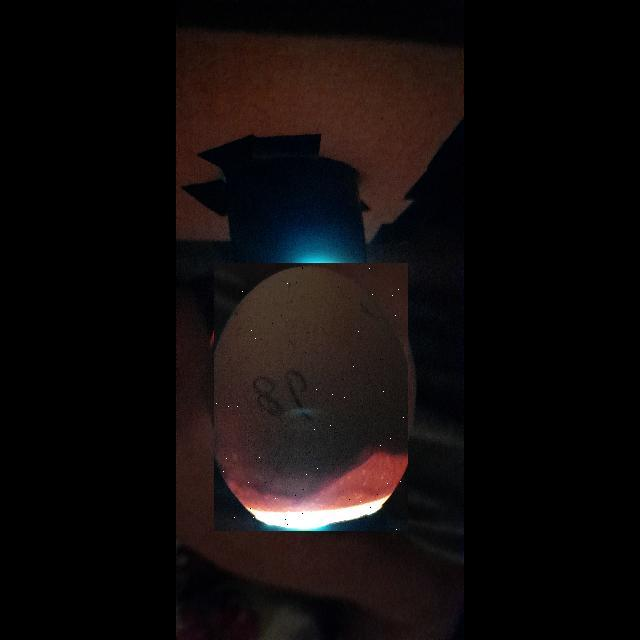Fertile: (214, 263, 408, 531)
